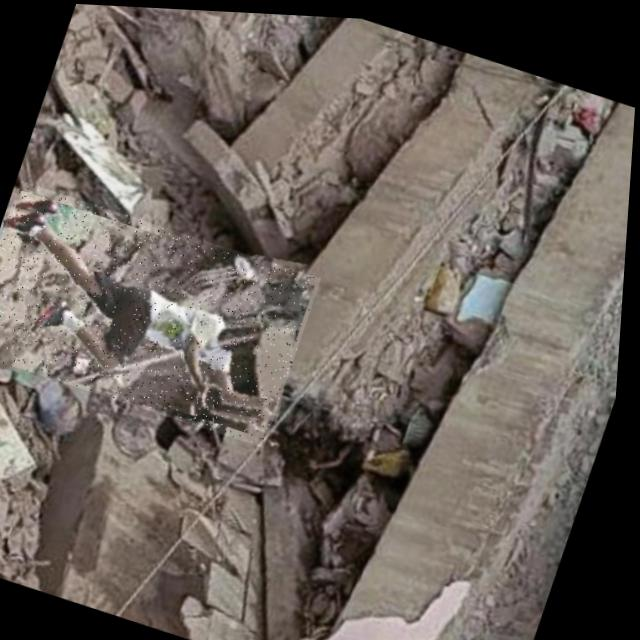Person in Rubble: (0, 178, 328, 446)
